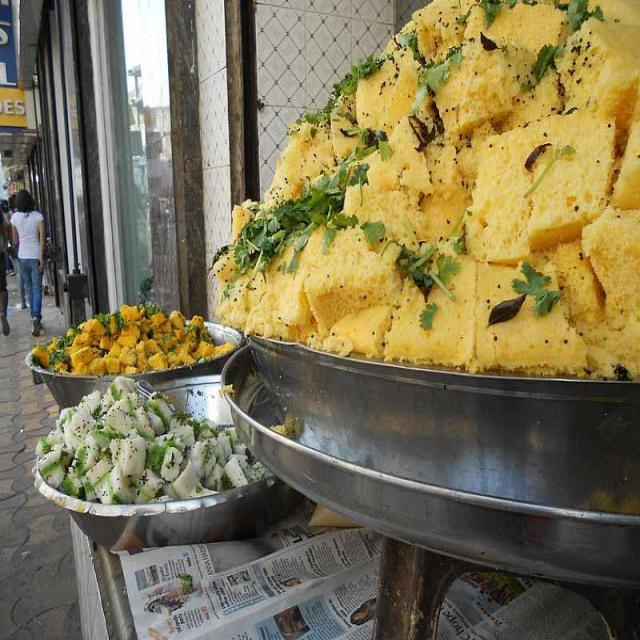dhokla: (226, 0, 639, 374)
